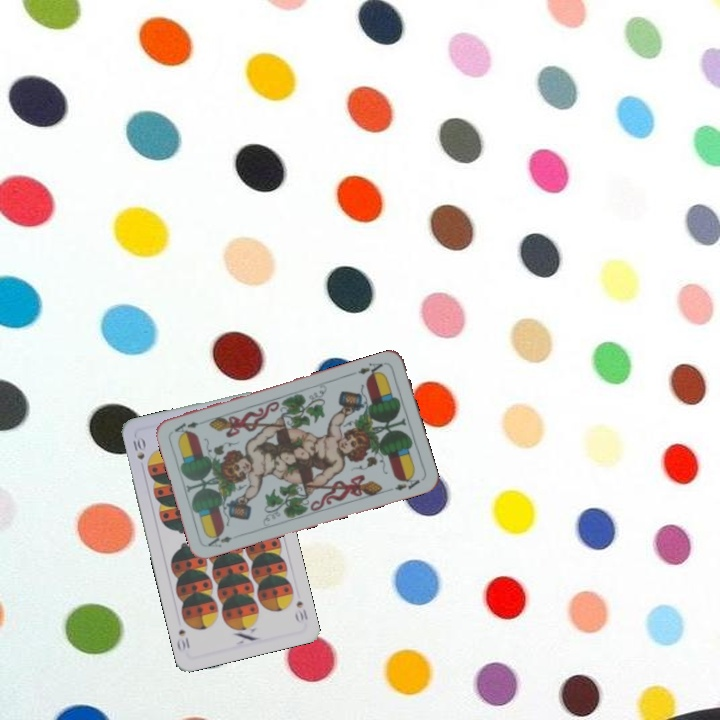EA: (354, 358, 388, 380), (204, 529, 235, 550)
S10: (291, 597, 310, 625), (129, 435, 147, 462)
